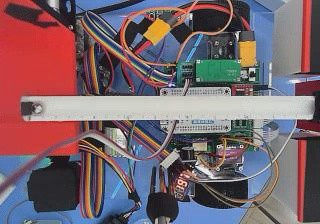ironball: (31, 102, 42, 113)
